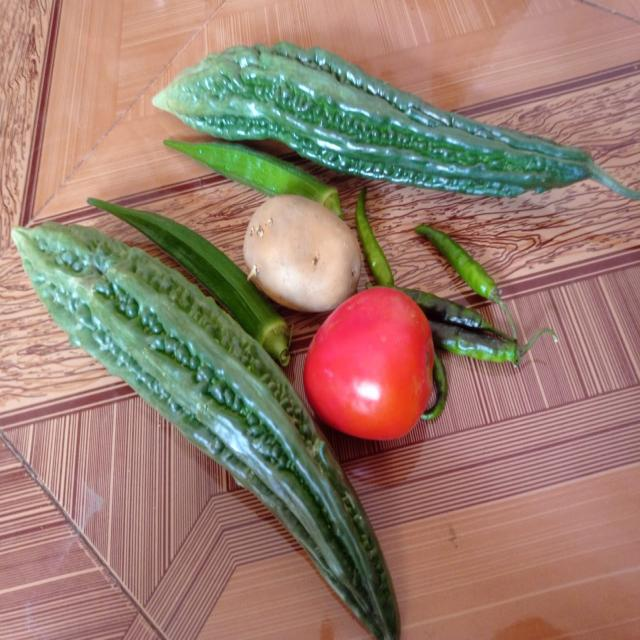Organik: (155, 34, 640, 188), (302, 284, 433, 446), (244, 195, 368, 316), (412, 221, 503, 310)
